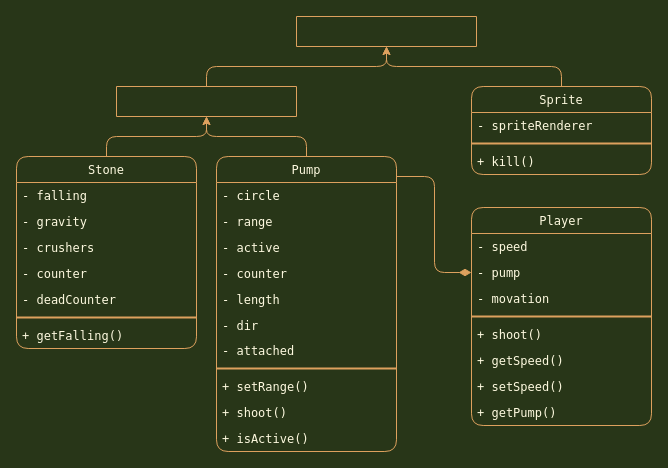
The diagram is 668 pixels wide and 468 high, and some of its shapes have lost their labels. Each missing label, with the centre of its shape:
"ir.ac.kntu.core.GameObject" belongs at point (386, 31).
"Object" belongs at point (206, 101).
